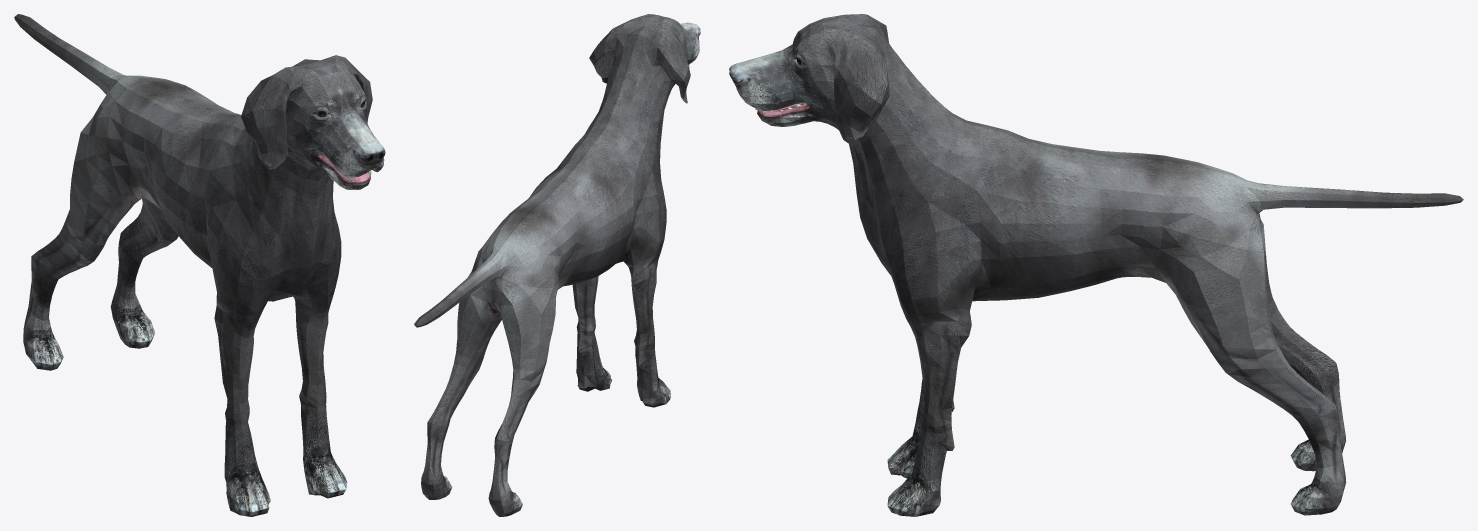
Rendered from dog.glb.
3 renders of one model, left to right at view 1: azimuth 30°, elevation 25°; view 2: azimuth 150°, elevation 25°; view 3: azimuth 270°, elevation 25°, orthographic. The views are drawn at different scales.
Visible parts, largest first — view 1: M11LRJO0EWXMDS8RK3O8YE6RC; view 2: M11LRJO0EWXMDS8RK3O8YE6RC; view 3: M11LRJO0EWXMDS8RK3O8YE6RC.
Boxes of the visible parts, x1,y1,x2,y2 form: M11LRJO0EWXMDS8RK3O8YE6RC: [14, 14, 385, 516]; M11LRJO0EWXMDS8RK3O8YE6RC: [414, 14, 700, 516]; M11LRJO0EWXMDS8RK3O8YE6RC: [729, 14, 1463, 516].
Bounding box in the file's own units: 0.493 × 1.76 × 2.5.
2 materials, 2 textured.
